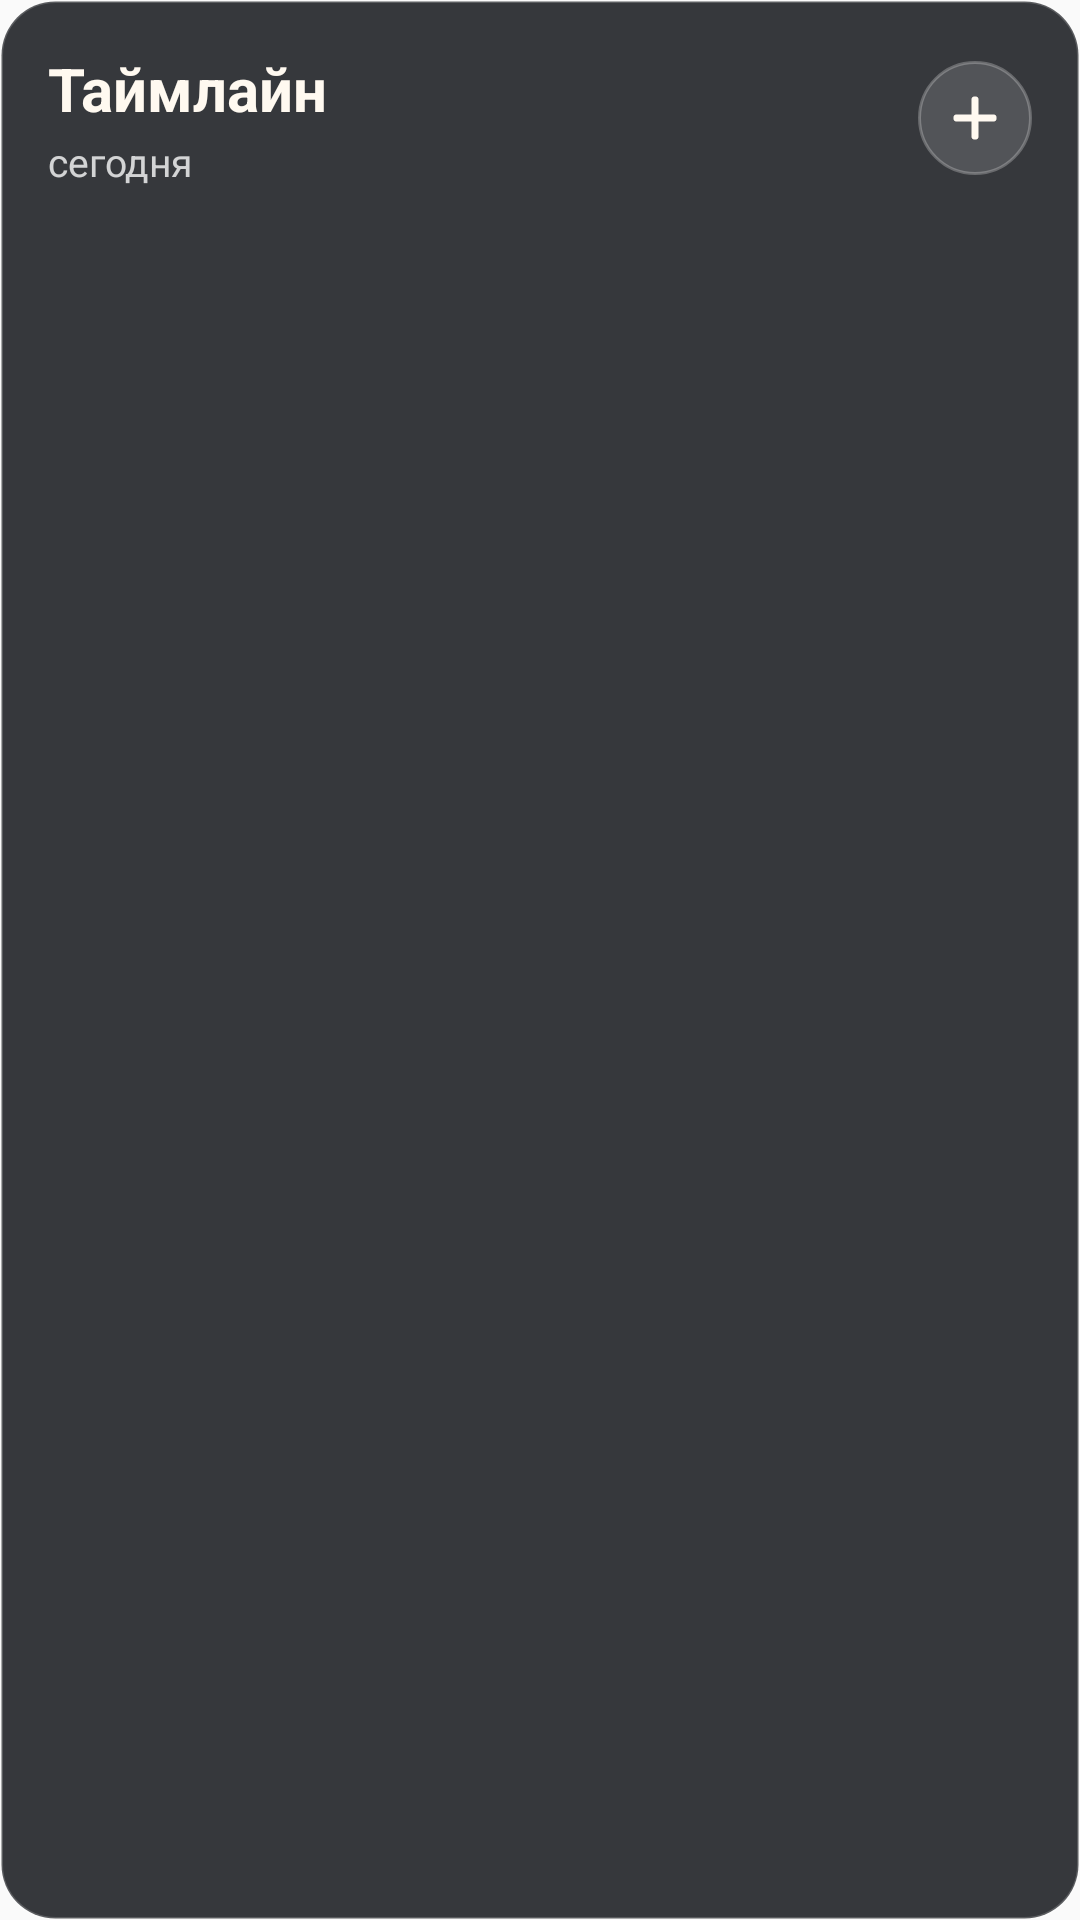

Icons on this 1080px×1920px Android screen, each with its box as BBox(x1, y1, x2, y2):
Добавить задачу: BBox(918, 61, 1032, 175)
